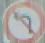Don't turn left: (6, 2, 42, 42)
